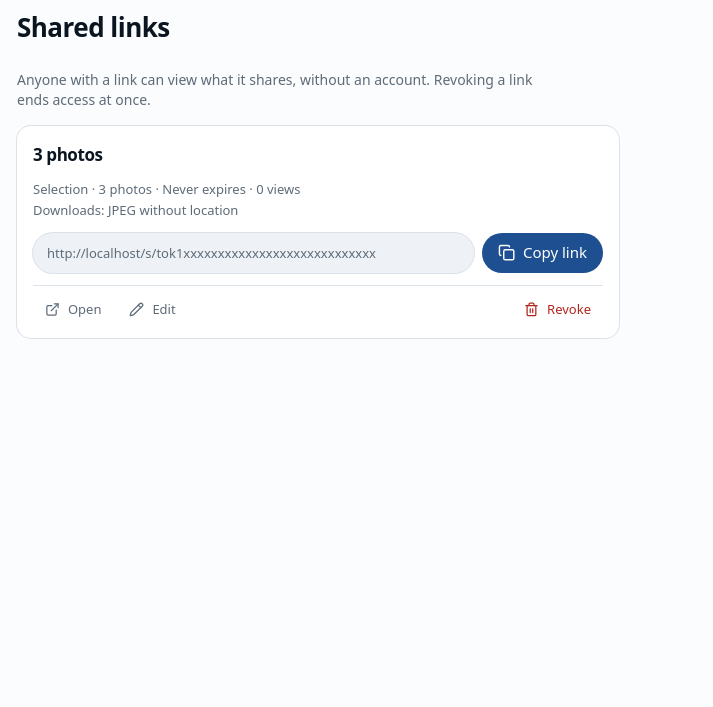
it: SharedLinks › copies a link
The width and height of the screenshot is (713, 707).
Expected: the list named "Shared links" is shown, [17,126,619,338]
What coordinates should you click on to do the following:
click the button "Copy link"
I would click on:
 (542, 252)
Its box is [482,232,603,272].
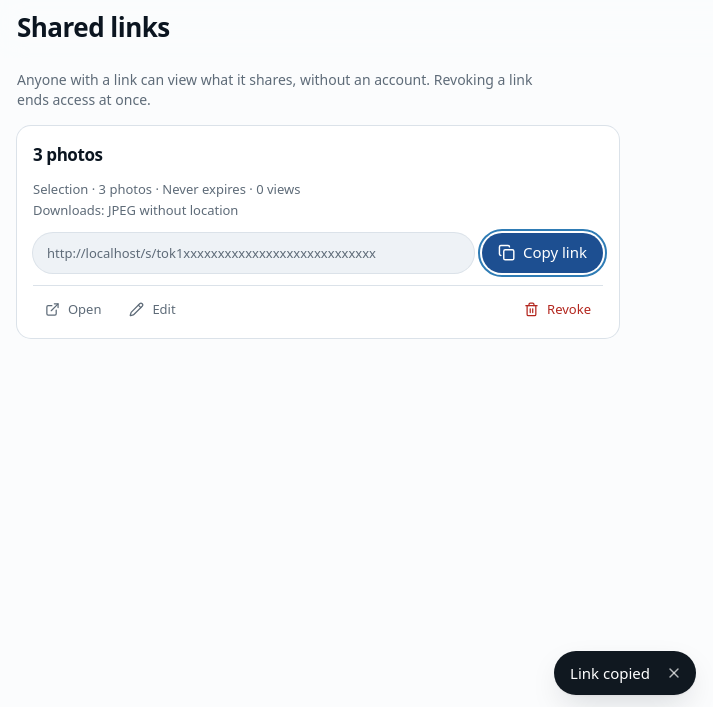
Now the text "Link copied" is shown, box [570,659,650,687]
